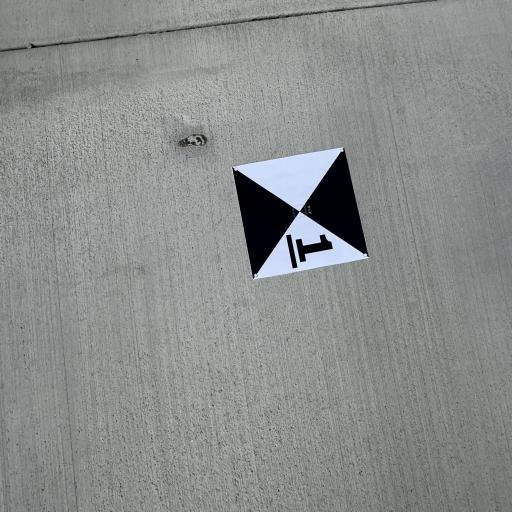target1: (230, 140, 376, 284)
